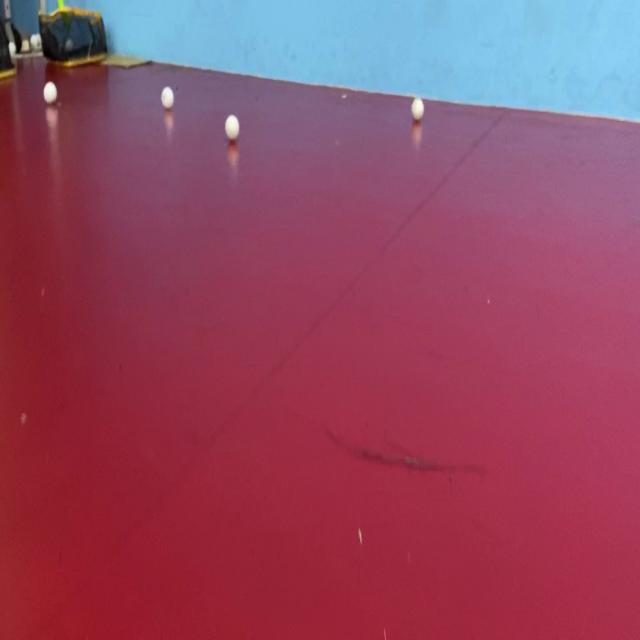ping-pong-ball: (223, 104, 243, 147), (408, 92, 430, 126), (40, 77, 64, 106), (24, 25, 44, 57), (158, 78, 173, 114)
